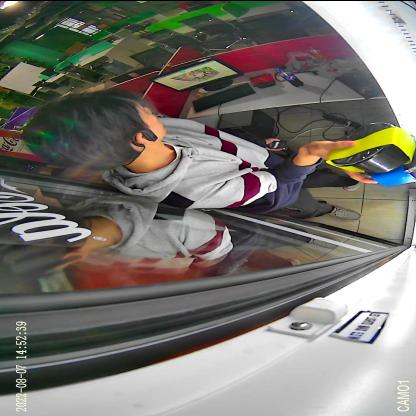blue: (360, 133, 416, 186)
yellow: (325, 122, 416, 172)
